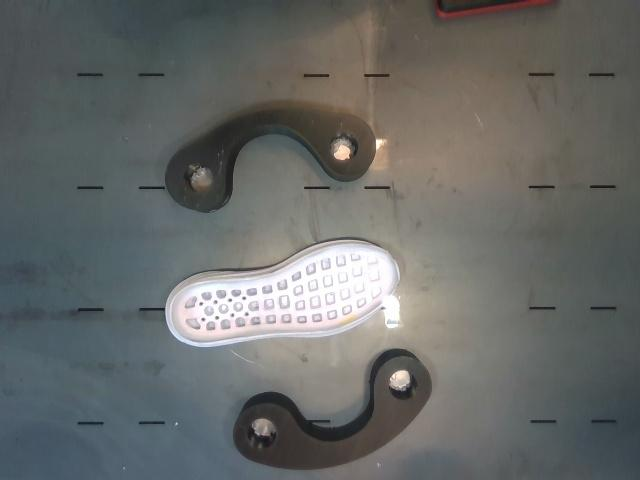shoes: (171, 244, 398, 343)
